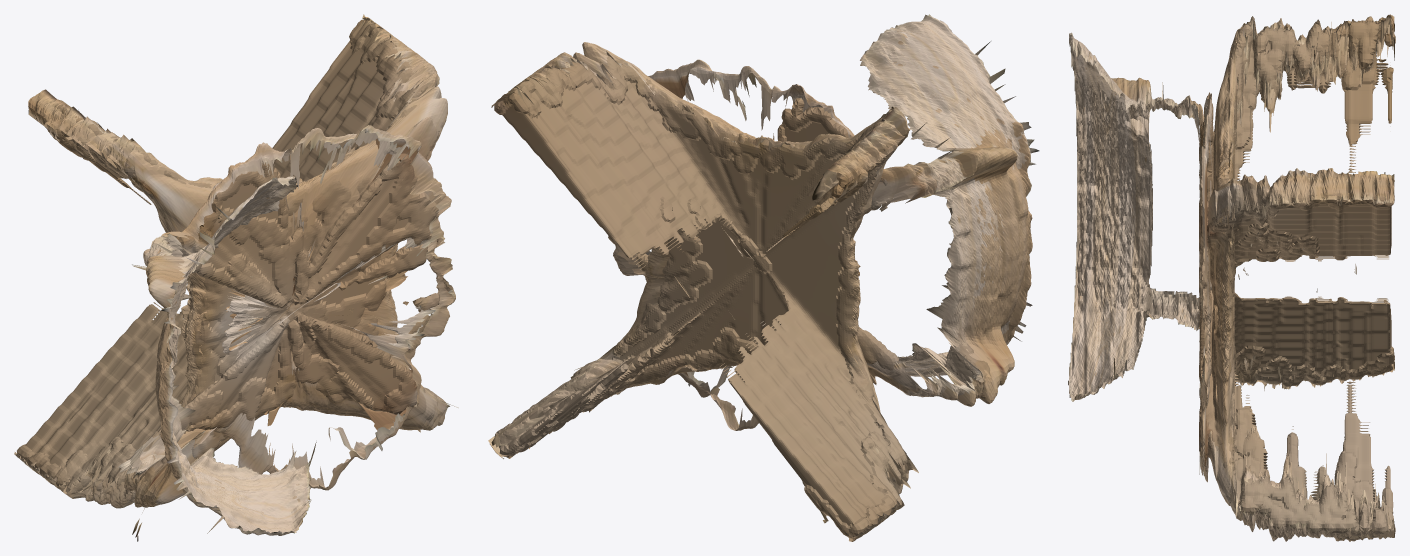
The model's file is volume2_mesh.glb.
3 renders of one model, left to right at view 1: azimuth 30°, elevation 25°; view 2: azimuth 150°, elevation 25°; view 3: azimuth 270°, elevation 25°, orthographic. The views are drawn at different scales.
Visible parts, largest first — view 1: fill, ipn; view 2: fill, ipn; view 3: fill, ipn.
Part boxes in pixels (x1,y1,x2,y2): fill: (17,19,445,506); ipn: (14,14,458,541); fill: (494,48,1001,537); ipn: (488,14,1039,541); fill: (1104,18,1395,540); ipn: (1068,14,1394,541).
Size of the model in its own units: 1.58 by 1.62 by 1.18.
2 materials, 1 textured.
